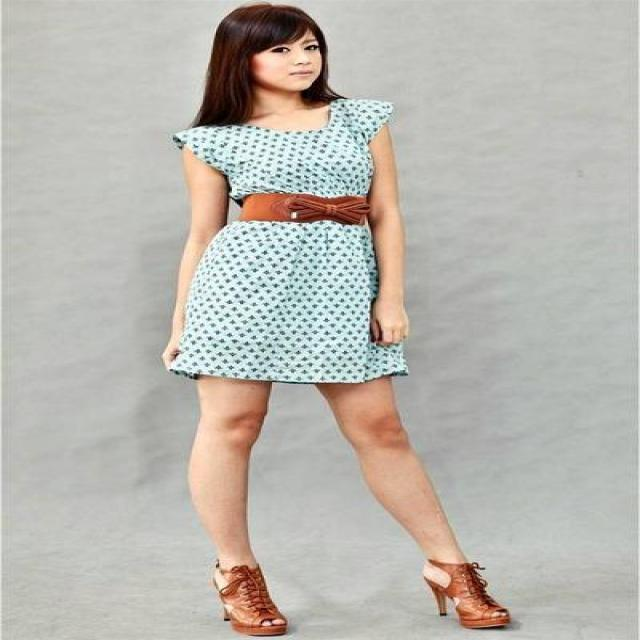dress: (163, 99, 405, 382)
shoe: (221, 562, 515, 636)
